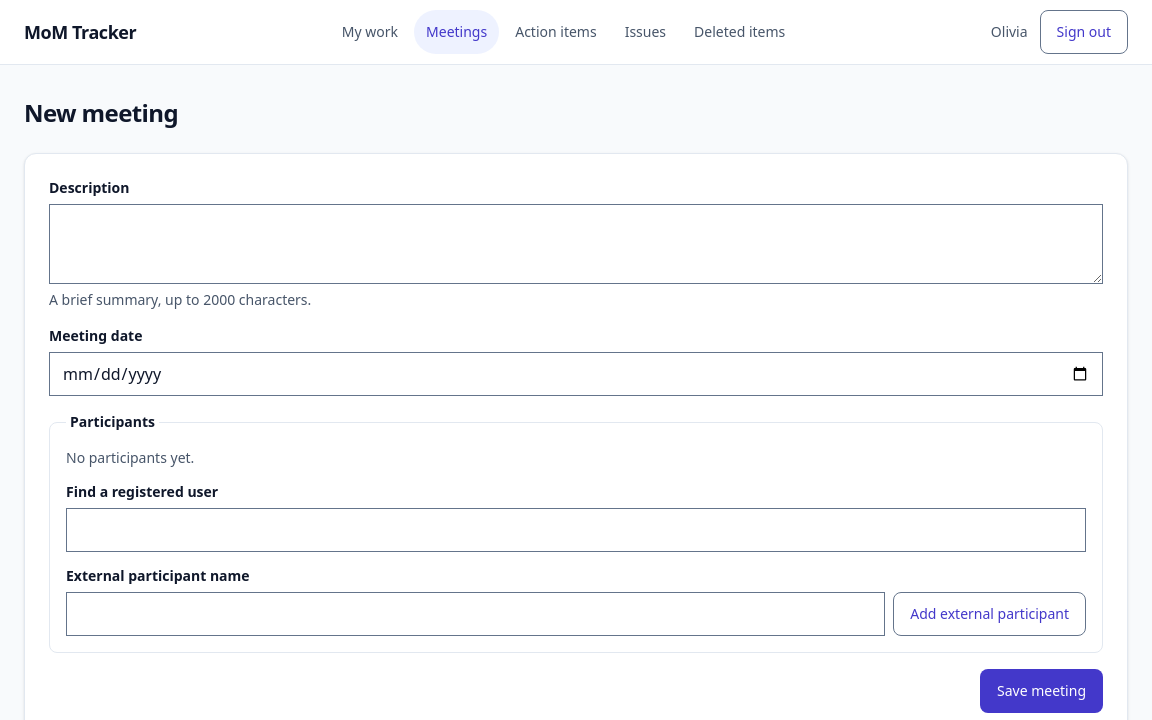
Test: success toasts › confirms "Meeting created" after creating a meeting
The image size is (1152, 720).
Step 1. Type "Sprint planning" into the text box labelled "Description" → (576, 244), box [49, 204, 1103, 284]
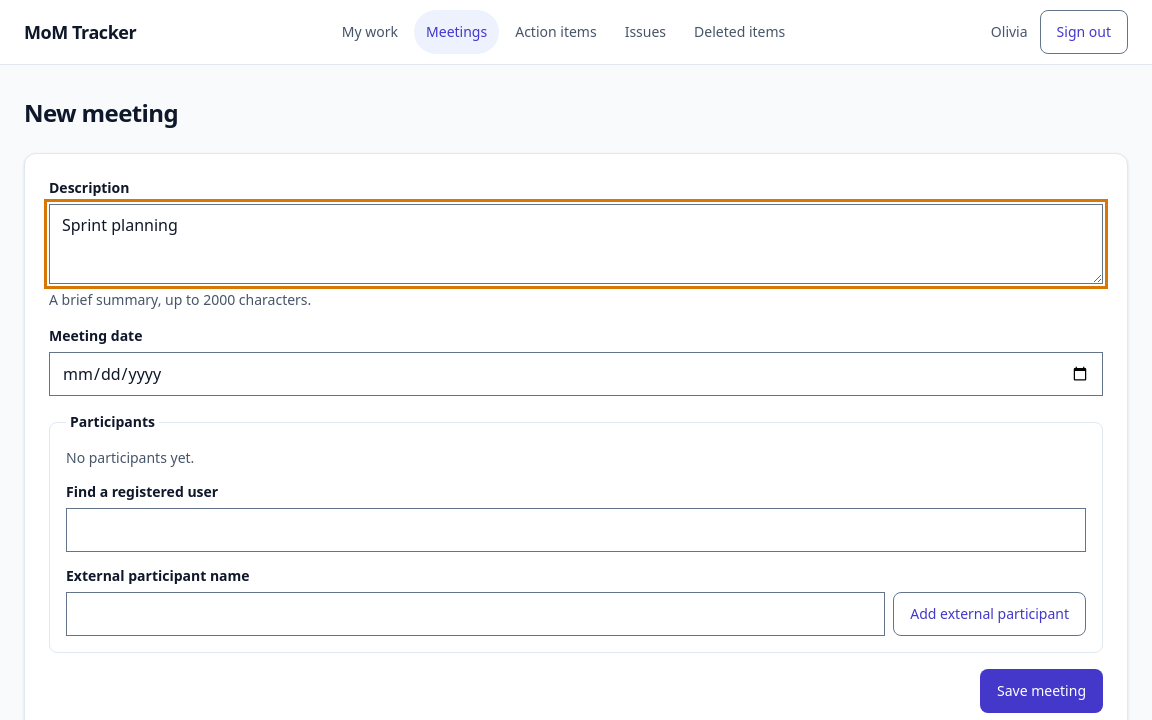
Step 2. Type "2026-10-20" into the date field labelled "Meeting date" → (576, 374), box [49, 352, 1103, 396]
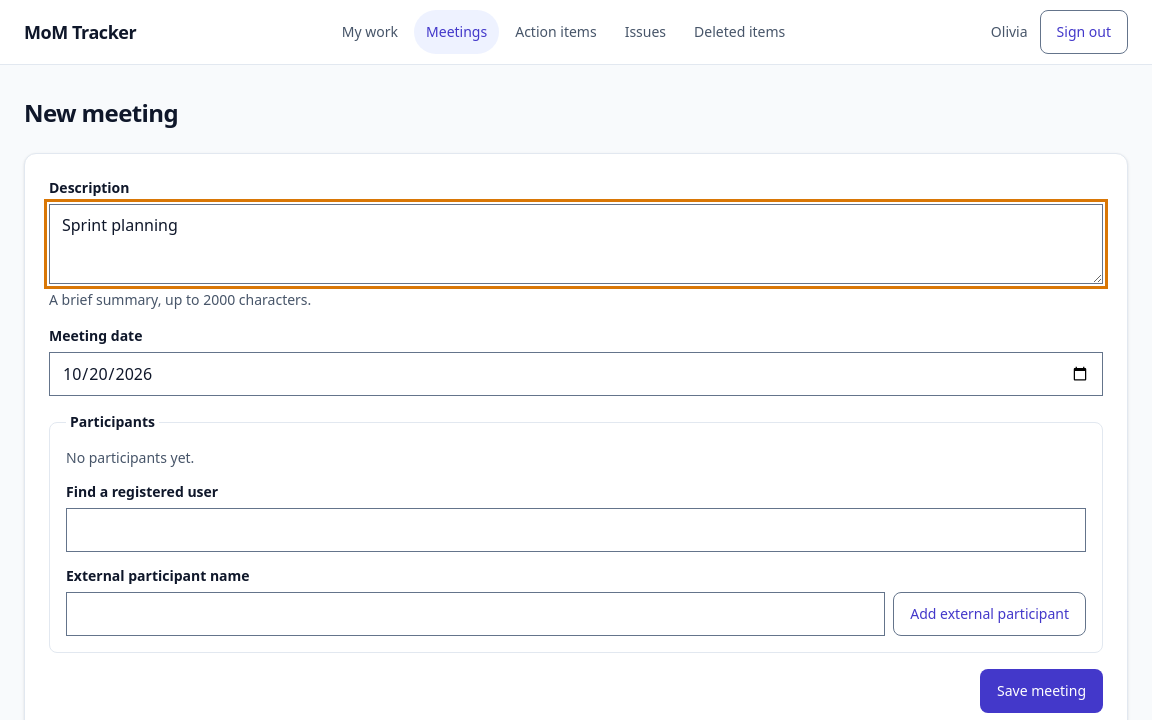
Step 3. Type "Vendor Rep" into the field labelled "External participant name" → (476, 614), box [66, 592, 885, 636]
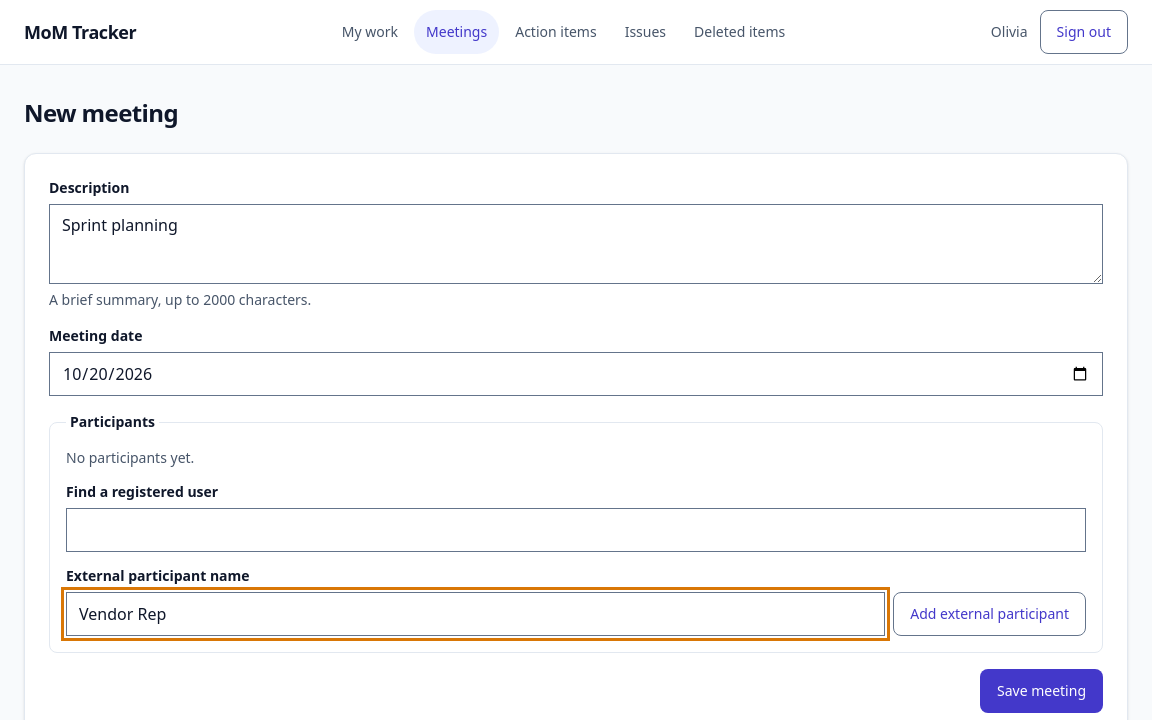
Step 4. Click the button "Add external participant" → (990, 614), box [893, 592, 1086, 636]
(page scrolled)
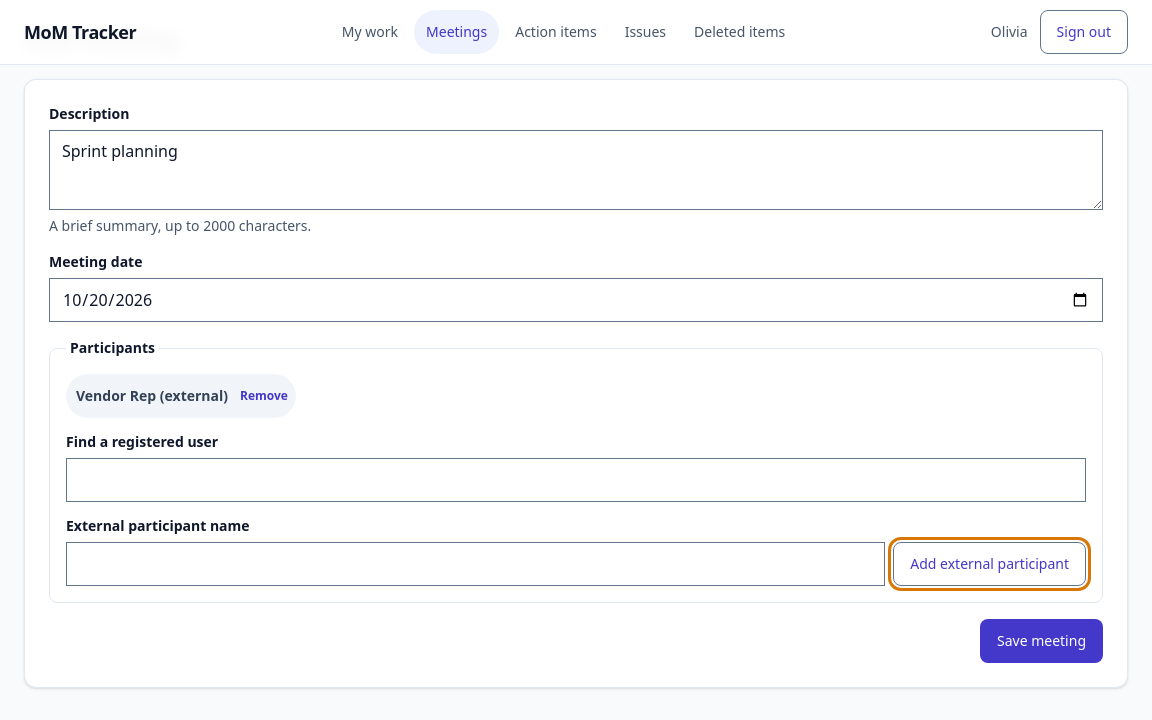
Step 5. Click the button "Save meeting" → (1042, 641), box [980, 619, 1103, 663]
(page scrolled)
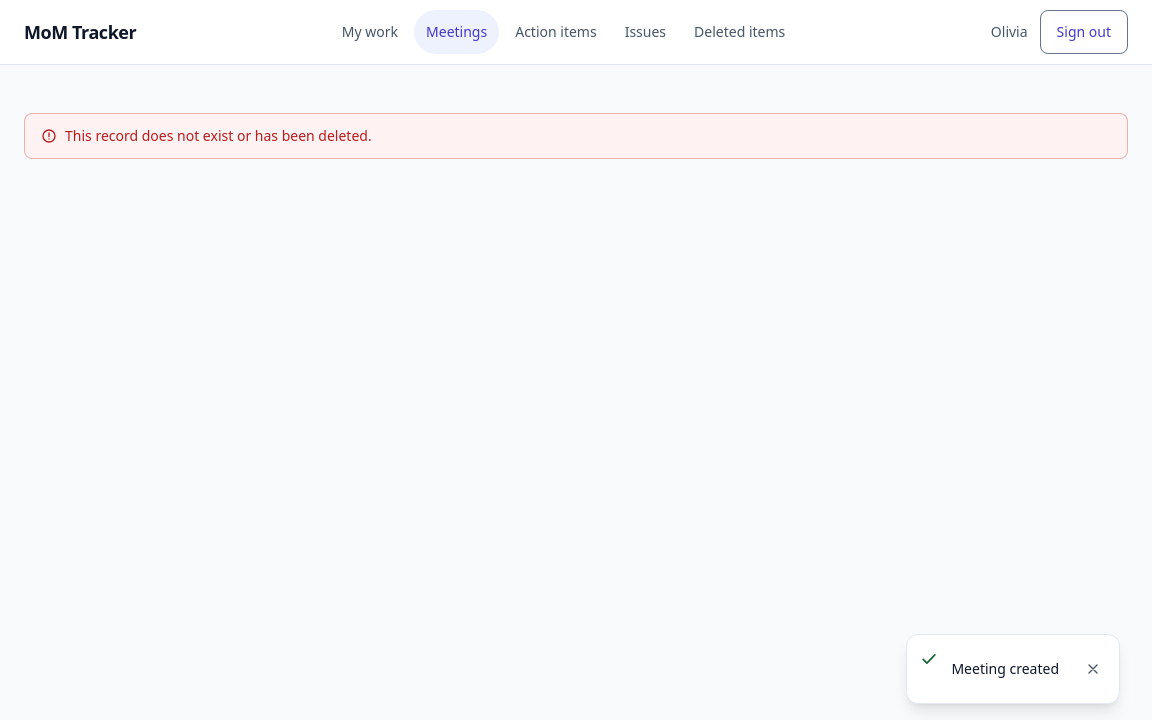
Result: the text "Meeting created" is shown at [951, 659, 1059, 679]
